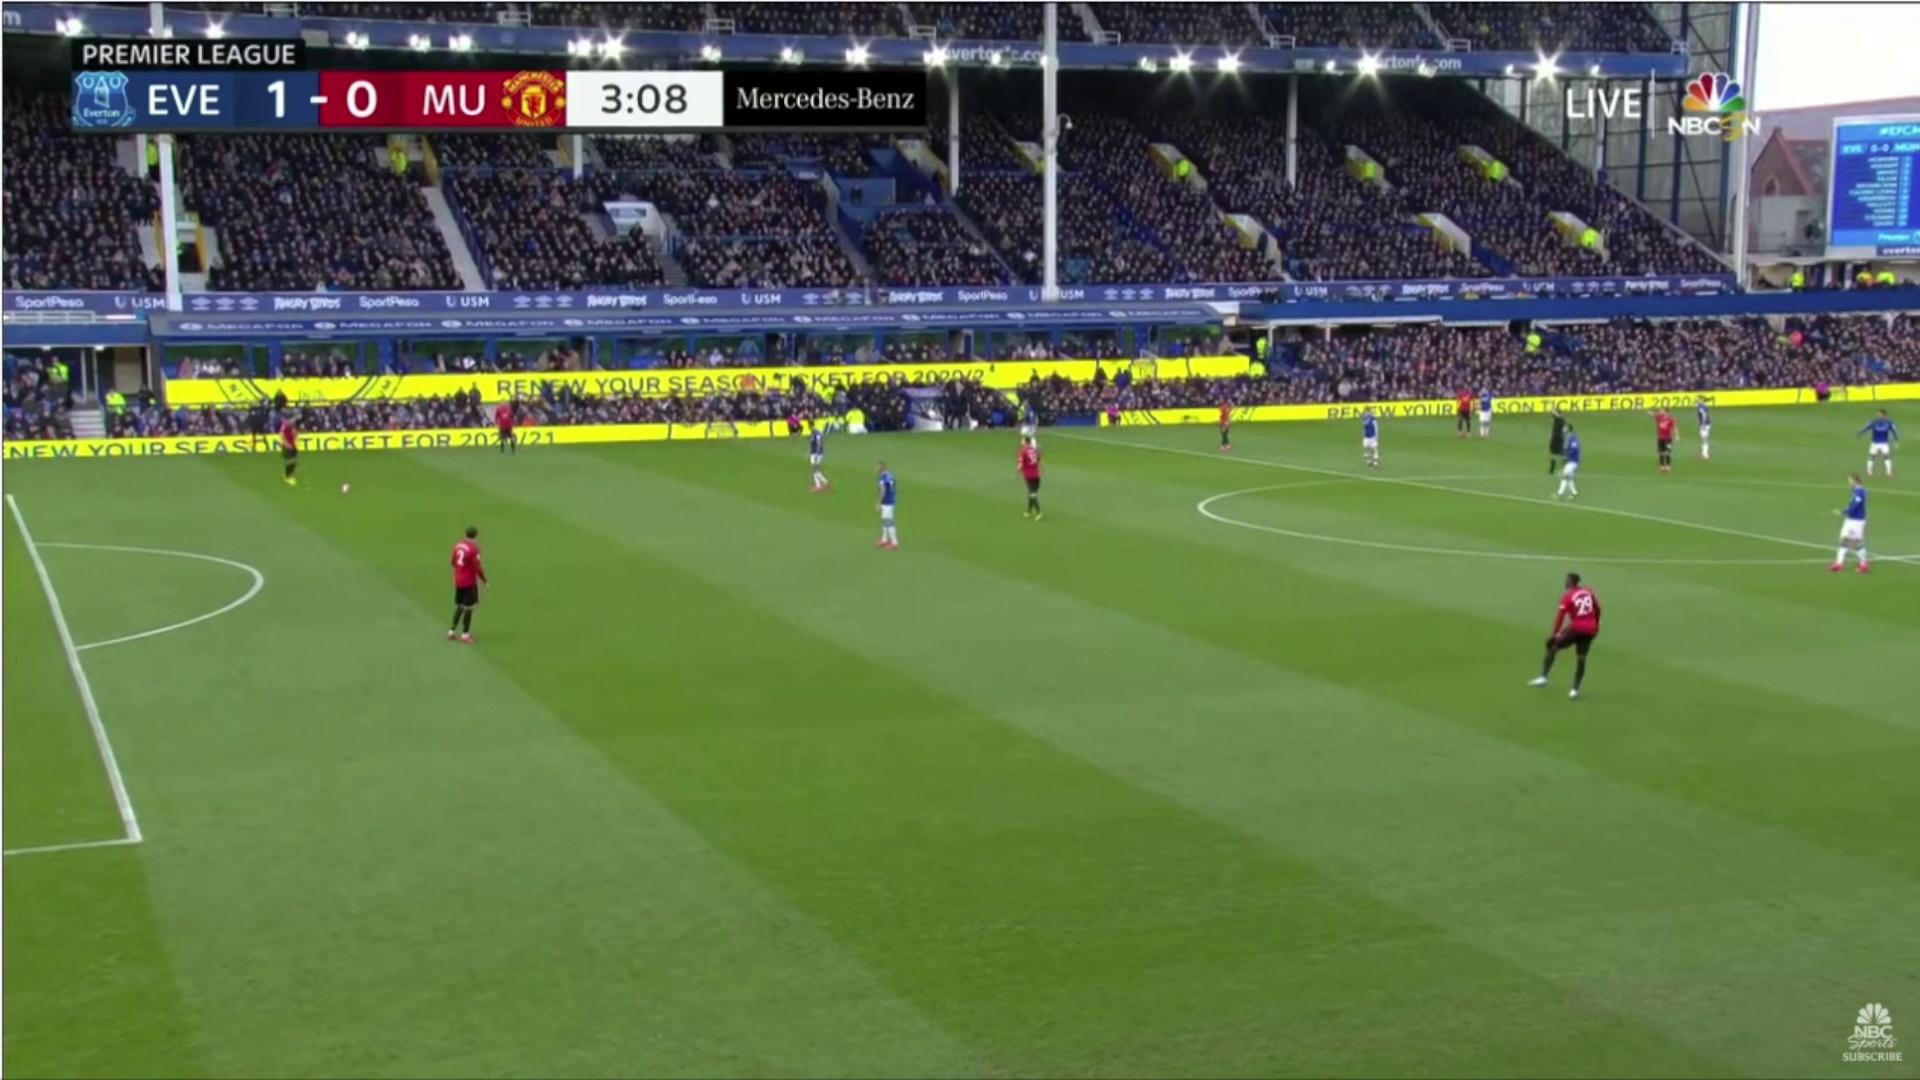ball: (335, 473, 356, 498)
player: (416, 506, 500, 656), (1527, 560, 1612, 708), (1822, 462, 1877, 579), (866, 448, 910, 554), (1849, 394, 1900, 483), (1008, 431, 1054, 529), (1693, 383, 1733, 479), (1552, 410, 1589, 508), (1643, 396, 1685, 479), (270, 404, 308, 494), (795, 415, 833, 500), (1350, 398, 1387, 477), (1472, 373, 1506, 442), (1210, 381, 1243, 452), (1012, 392, 1049, 446), (1452, 379, 1474, 444), (495, 398, 522, 448)
